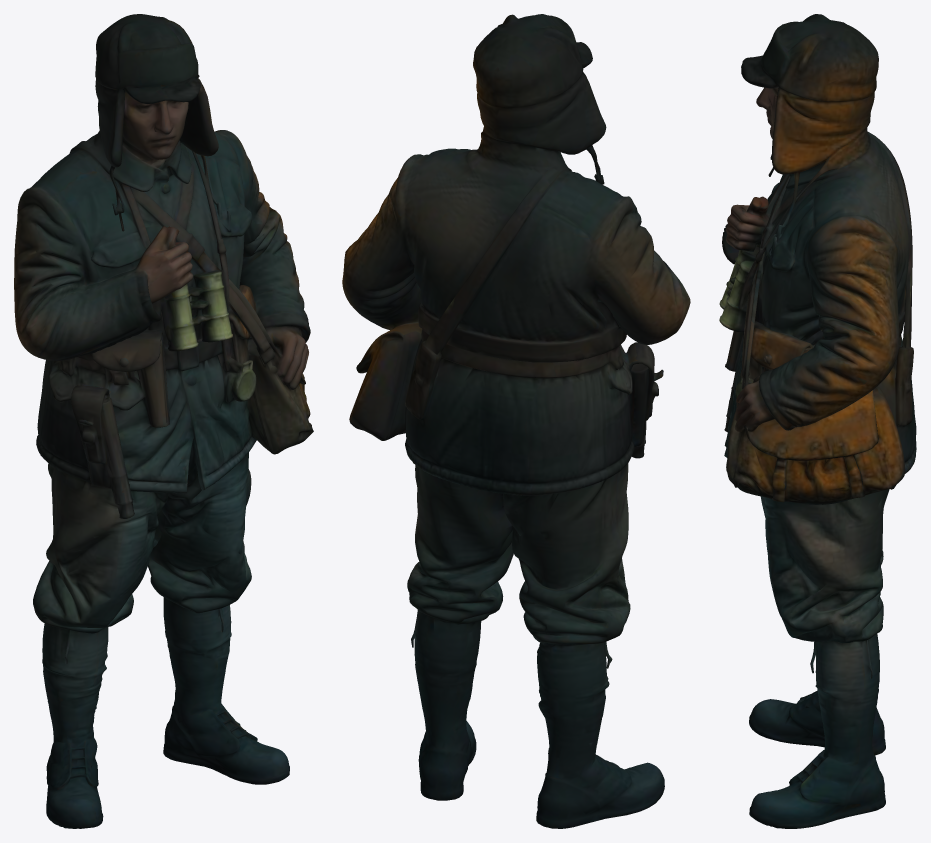
Rendered from char_leader.glb.
The picture shows the model from 3 angles, left to right: view 1: azimuth 30°, elevation 25°; view 2: azimuth 150°, elevation 25°; view 3: azimuth 270°, elevation 25°; orthographic projection. The views are drawn at different scales.
Parts seen in each view (by area): view 1: node_0; view 2: node_0; view 3: node_0.
Part boxes in pixels (<box>): node_0: <box>14,14,313,828</box>; node_0: <box>342,14,690,828</box>; node_0: <box>719,14,916,828</box>.
Size of the model in its own units: 0.4686 by 1.14 by 0.2718.
Materials: 1 (1 with a texture image).
